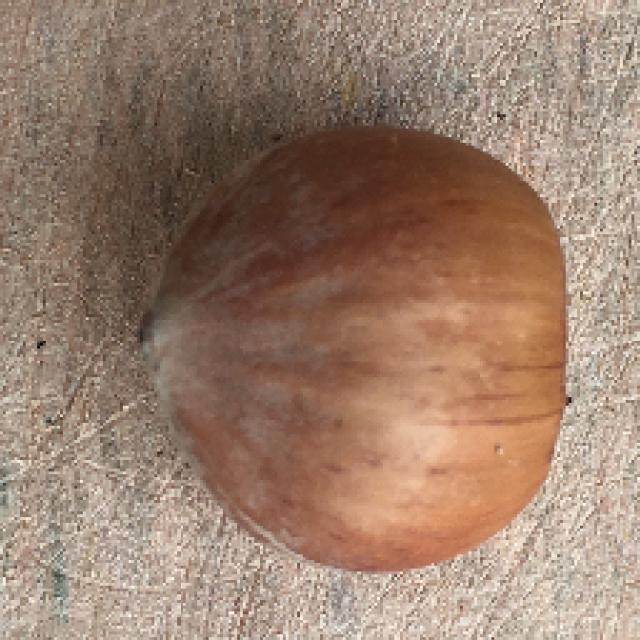DamagedHazelnut: (145, 131, 573, 563)
